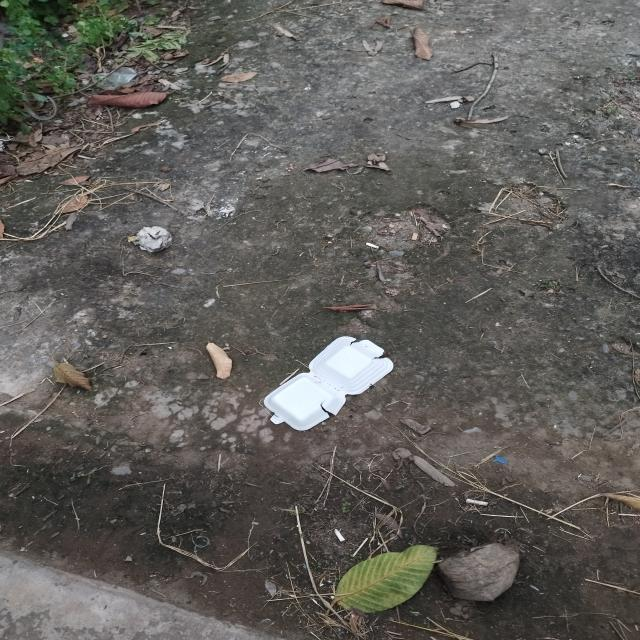foam box: (264, 336, 394, 431)
